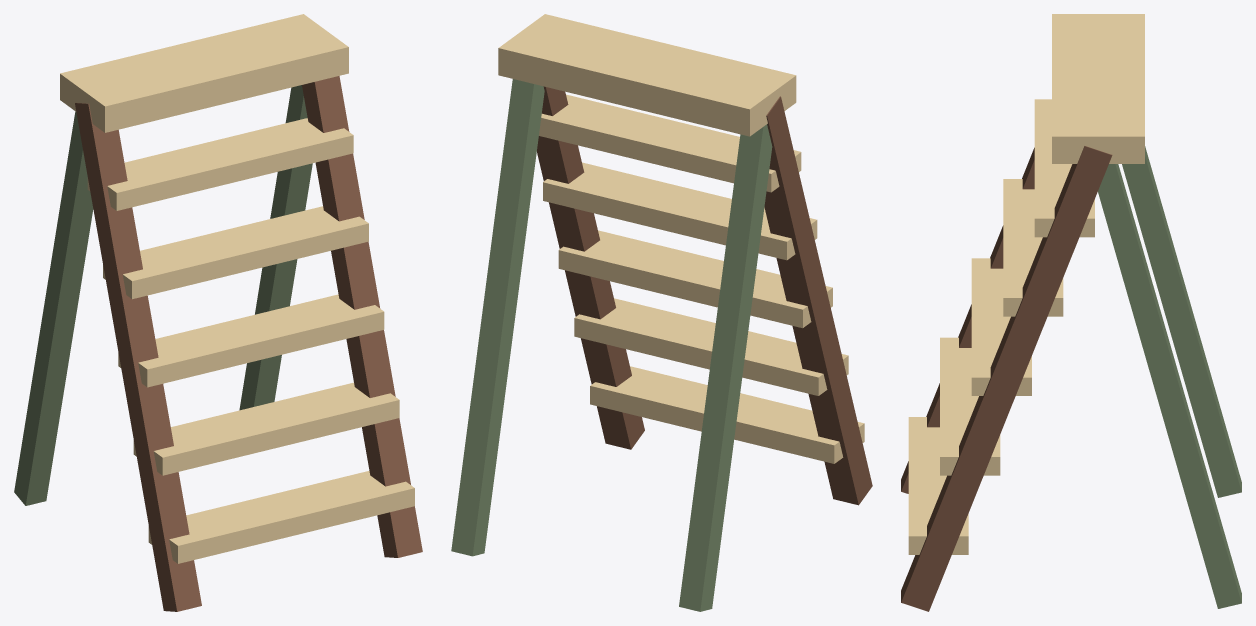
File: orchard_ladder.glb
3 renders of one model, left to right at view 1: azimuth 30°, elevation 25°; view 2: azimuth 150°, elevation 25°; view 3: azimuth 270°, elevation 25°, orthographic. The views are drawn at different scales.
Visible parts, largest first — view 1: rung (×5), front_rail (×2), top_step, back_rail (×2); view 2: rung (×5), back_rail (×2), front_rail (×2), top_step; view 3: back_rail (×2), rung (×5), front_rail (×2), top_step.
Boxes of the visible parts, bbox=[...] form: rung (×5): bbox=[87, 118, 414, 563]; front_rail (×2): bbox=[75, 76, 422, 611]; top_step: bbox=[60, 14, 348, 132]; back_rail (×2): bbox=[14, 85, 312, 505]; rung (×5): bbox=[539, 94, 864, 463]; back_rail (×2): bbox=[451, 79, 772, 611]; front_rail (×2): bbox=[537, 86, 872, 505]; top_step: bbox=[498, 14, 796, 136]; back_rail (×2): bbox=[1098, 146, 1241, 608]; rung (×5): bbox=[908, 99, 1094, 554]; front_rail (×2): bbox=[901, 146, 1112, 611]; top_step: bbox=[1052, 14, 1144, 163].
Size of the model in its own units: 1.07 by 1.91 by 1.24.
